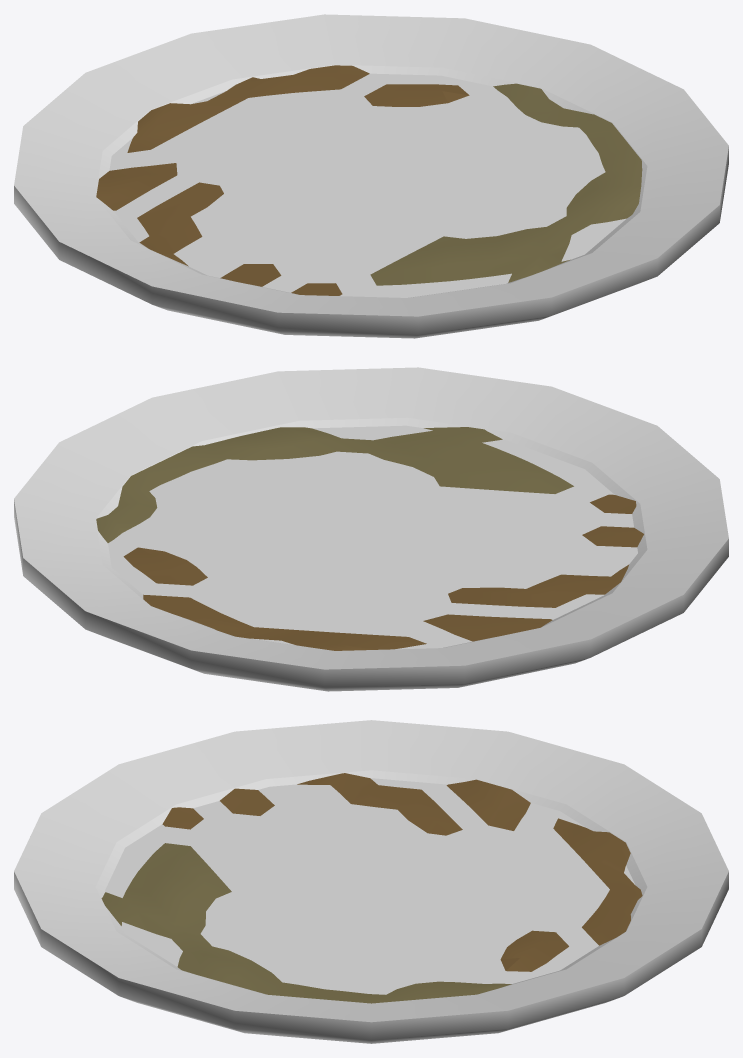
The model's file is dirty plate.fbx.
The picture shows the model from 3 angles, top to bottom: view 1: azimuth 30°, elevation 25°; view 2: azimuth 150°, elevation 25°; view 3: azimuth 270°, elevation 25°; orthographic projection.
Visible parts, largest first — view 1: Circle, Circle.001, Circle.002; view 2: Circle, Circle.001, Circle.002; view 3: Circle, Circle.002, Circle.001.
Boxes of the visible parts, box(x1,y1,x2,y2) form: Circle: box(14, 14, 728, 338); Circle.001: box(370, 83, 642, 285); Circle.002: box(96, 65, 469, 295); Circle: box(14, 367, 728, 691); Circle.001: box(96, 427, 573, 542); Circle.002: box(123, 494, 643, 650); Circle: box(14, 720, 728, 1043); Circle.002: box(162, 773, 642, 971); Circle.001: box(101, 843, 511, 1003).
Size of the model in its own units: 216 by 21.6 by 216.
